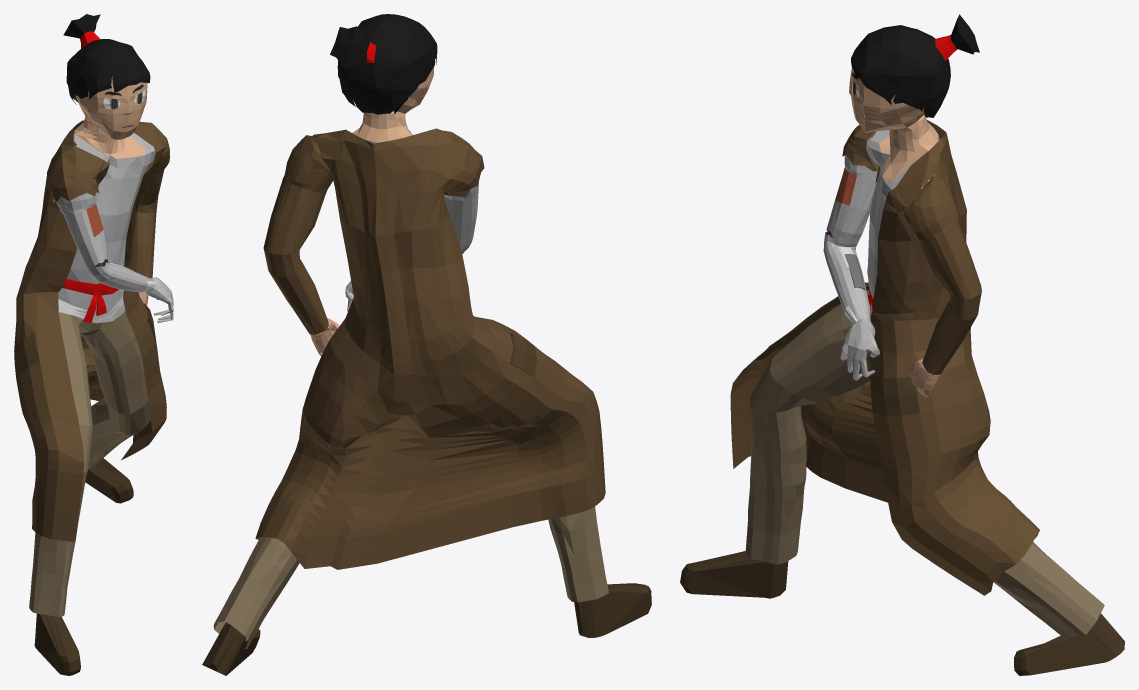
File: One_RR_000011.obj
3 renders of one model, left to right at view 1: azimuth 30°, elevation 25°; view 2: azimuth 150°, elevation 25°; view 3: azimuth 270°, elevation 25°, orthographic. The views are drawn at different scales.
Parts seen in each view (by area): view 1: Hair_Cube.004; view 2: Hair_Cube.004; view 3: Hair_Cube.004.
Boxes of the visible parts, bbox=[...] form: Hair_Cube.004: bbox=[14, 14, 173, 675]; Hair_Cube.004: bbox=[202, 14, 651, 675]; Hair_Cube.004: bbox=[680, 14, 1124, 675].
Bounding box in the file's own units: 1.49 × 3.63 × 2.27.
